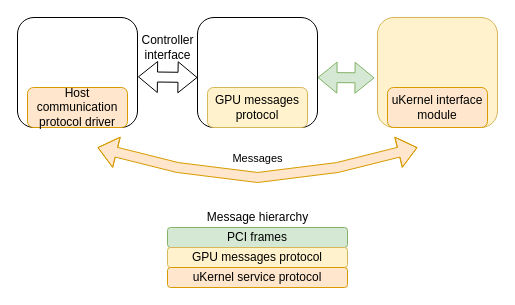
Image size: 515x305. Some labels were removed from this diagram. The box of each missing label's shape, as (x1, y1, x2, y2) in pixels:
CPU: (16, 16, 138, 128)
GPU controller: (196, 16, 318, 128)
Host driver: (376, 16, 498, 128)
